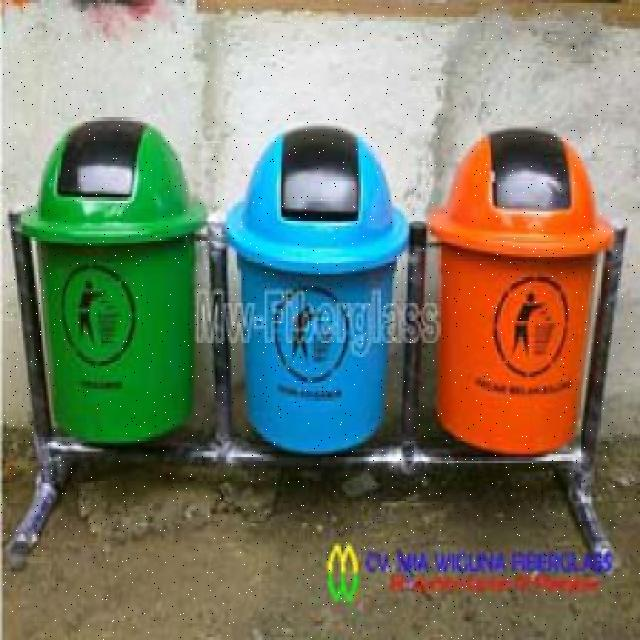garbage container: (12, 108, 216, 466), (218, 114, 416, 466), (424, 122, 621, 472)
